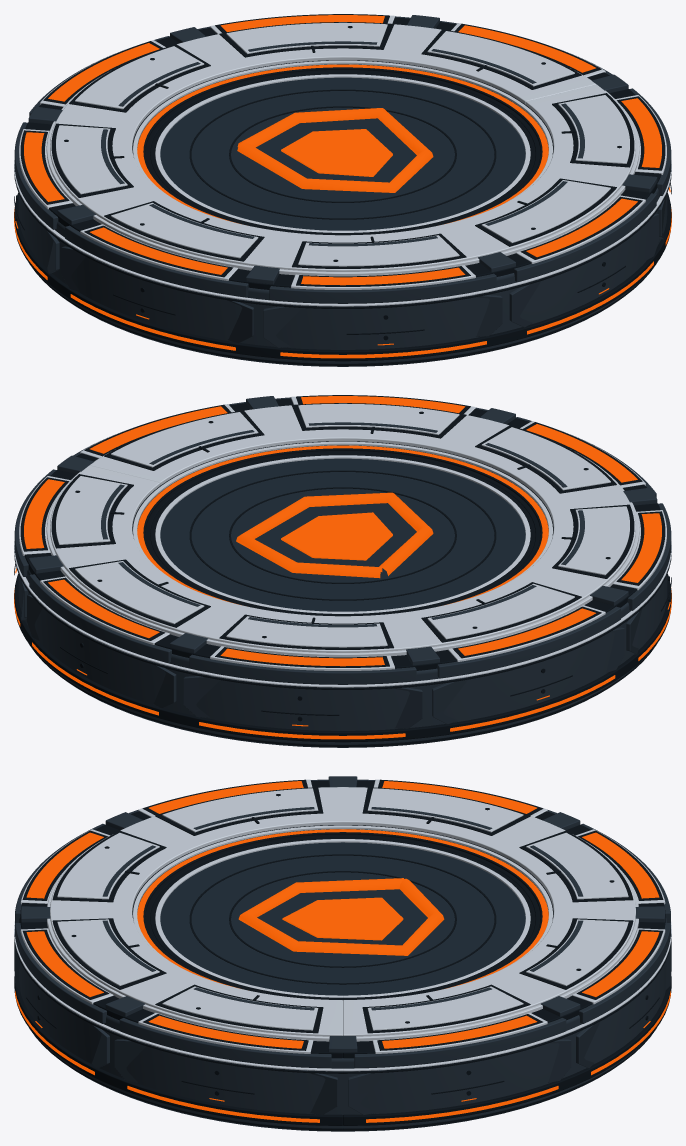
Rendered from Blocker.glb.
3 renders of one model, top to bottom at view 1: azimuth 30°, elevation 25°; view 2: azimuth 150°, elevation 25°; view 3: azimuth 270°, elevation 25°, orthographic.
Parts seen in each view (by area): view 1: SM_Puck_Blocker_Orange; view 2: SM_Puck_Blocker_Orange; view 3: SM_Puck_Blocker_Orange.
Boxes of the visible parts, bbox=[...] form: SM_Puck_Blocker_Orange: bbox=[14, 14, 671, 366]; SM_Puck_Blocker_Orange: bbox=[14, 395, 671, 747]; SM_Puck_Blocker_Orange: bbox=[14, 776, 671, 1131].
Size of the model in its own units: 1.06 by 0.1649 by 1.06.
